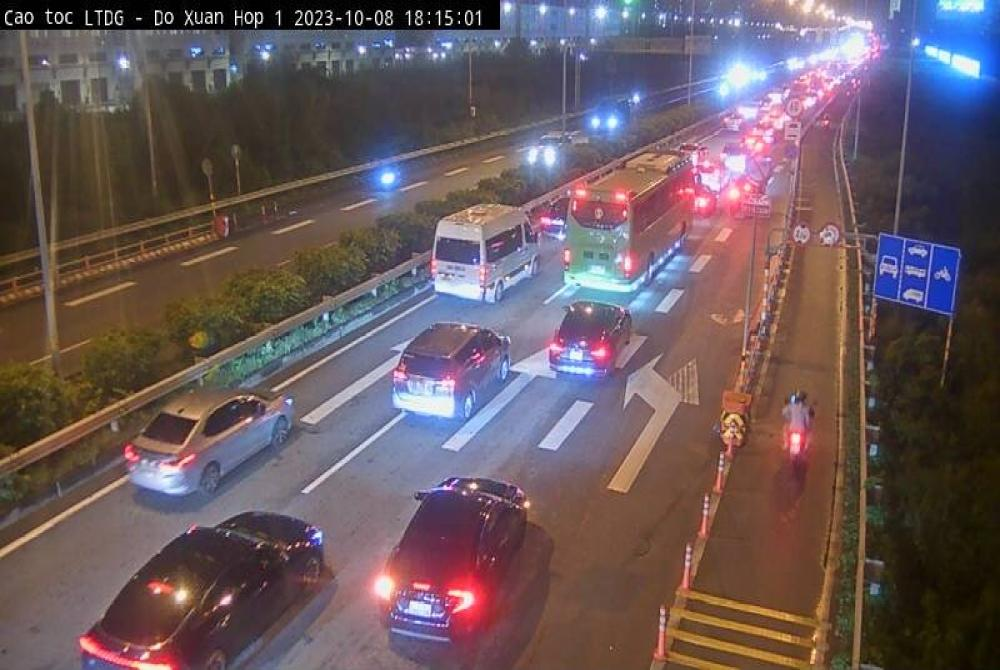bus: (566, 149, 696, 290)
car: (81, 510, 330, 667), (380, 474, 532, 648), (126, 394, 298, 512), (387, 325, 515, 424), (431, 203, 541, 306), (547, 301, 633, 374)
